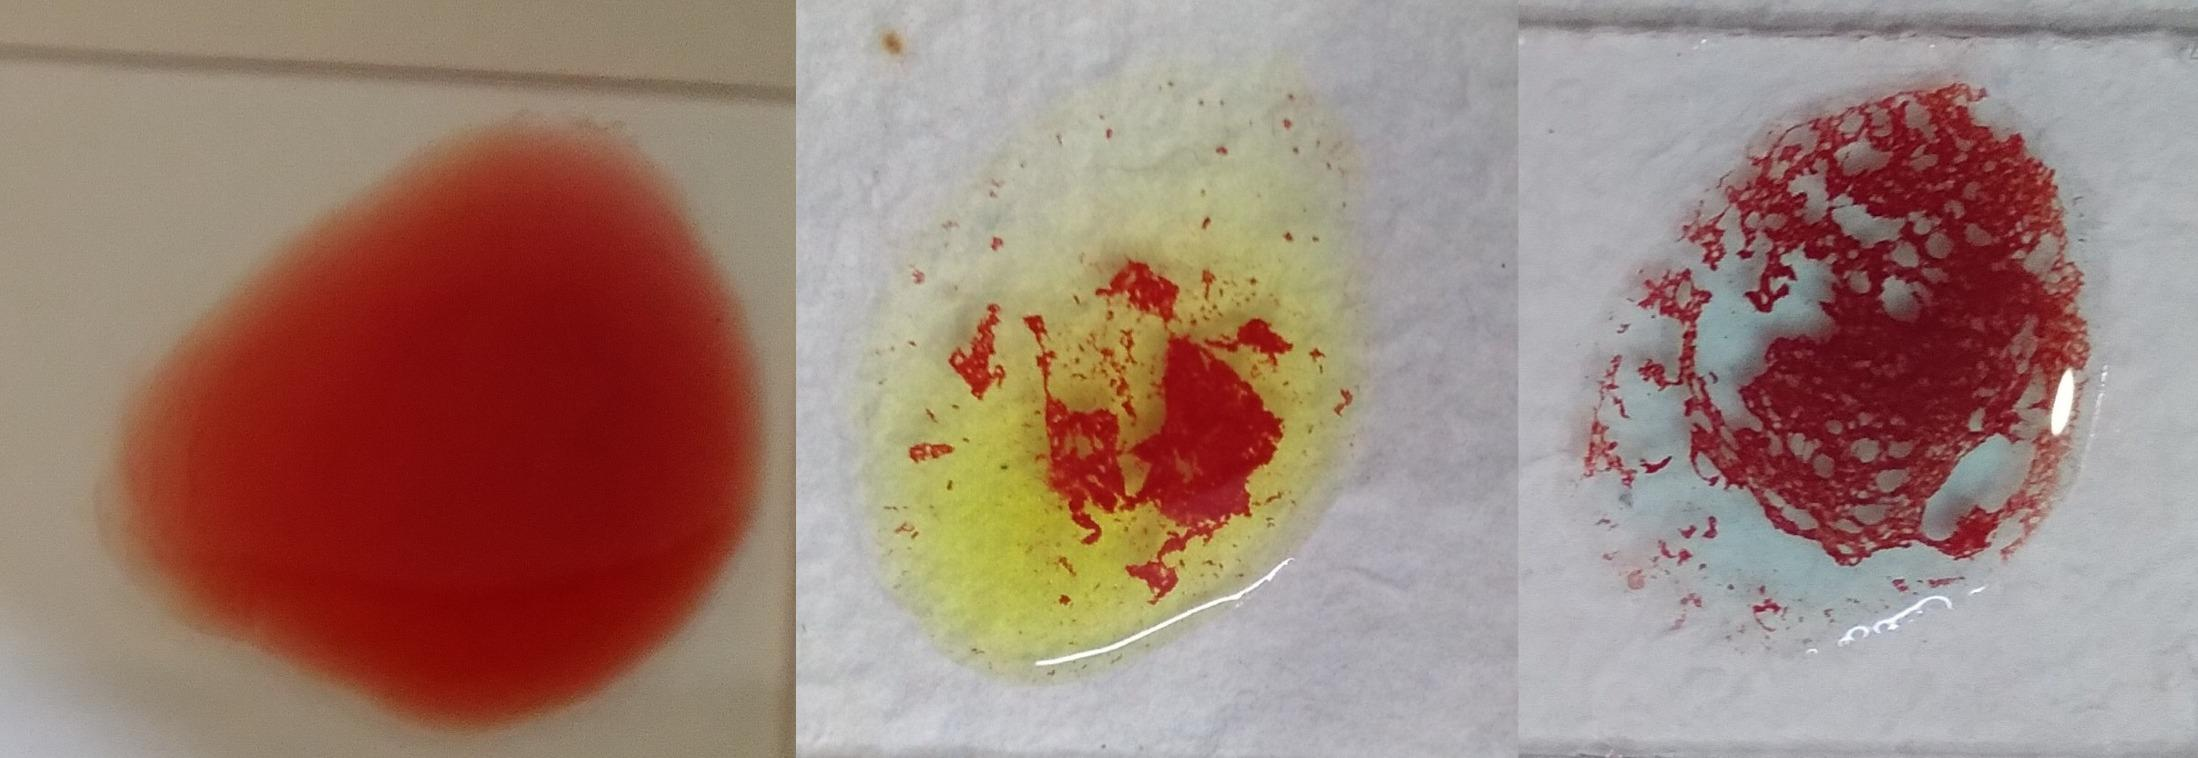A: (1584, 76, 2110, 654)
B: (868, 78, 1360, 687)
